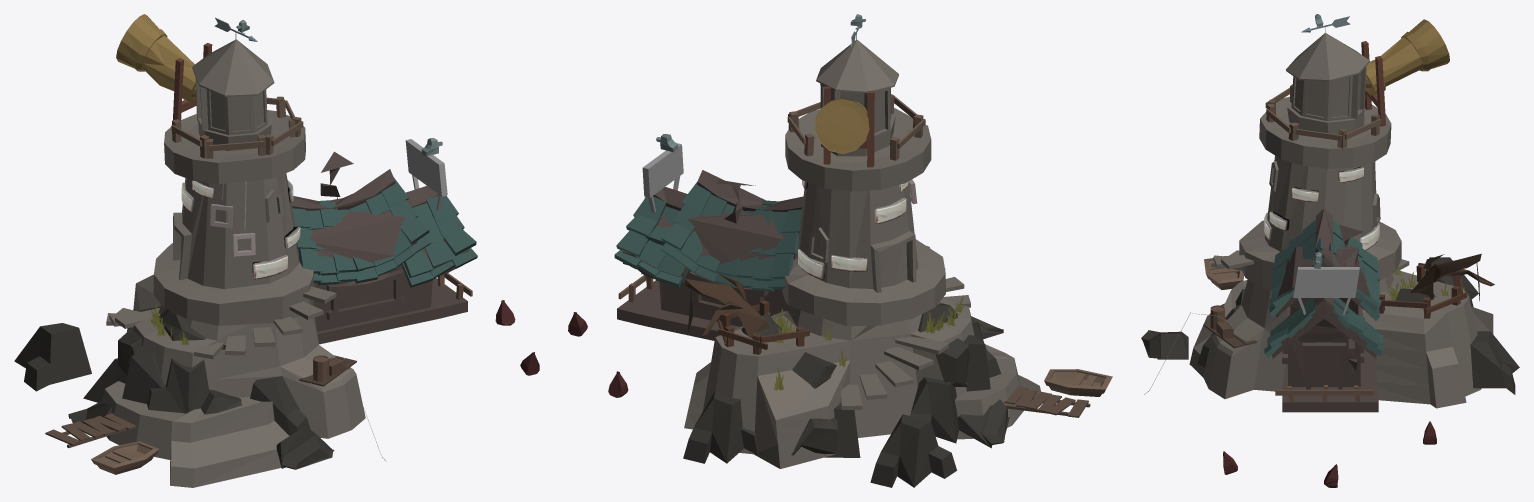
File: lighthouse.lod0.glb
The picture shows the model from 3 angles, left to right: view 1: azimuth 30°, elevation 25°; view 2: azimuth 150°, elevation 25°; view 3: azimuth 270°, elevation 25°; orthographic projection. The views are drawn at different scales.
Parts seen in each view (by area): view 1: Cylinder001_Material #343_0, ChamferBox002_Material #263_0; view 2: Cylinder001_Material #343_0, ChamferBox002_Material #263_0, Plane004_Material #342_0; view 3: Cylinder001_Material #343_0, ChamferBox002_Material #263_0.
Boxes of the visible parts, x1=… form: Cylinder001_Material #343_0: x1=14, y1=14, x2=539, y2=487; ChamferBox002_Material #263_0: x1=181, y1=180, x2=300, y2=279; Cylinder001_Material #343_0: x1=568, y1=14, x2=1112, y2=487; ChamferBox002_Material #263_0: x1=798, y1=180, x2=908, y2=279; Plane004_Material #342_0: x1=751, y1=296, x2=964, y2=390; Cylinder001_Material #343_0: x1=1141, y1=14, x2=1519, y2=487; ChamferBox002_Material #263_0: x1=1264, y1=166, x2=1379, y2=250.
Size of the model in its own units: 28.15 by 22 by 20.53.
Materials: 3 (2 with a texture image).
